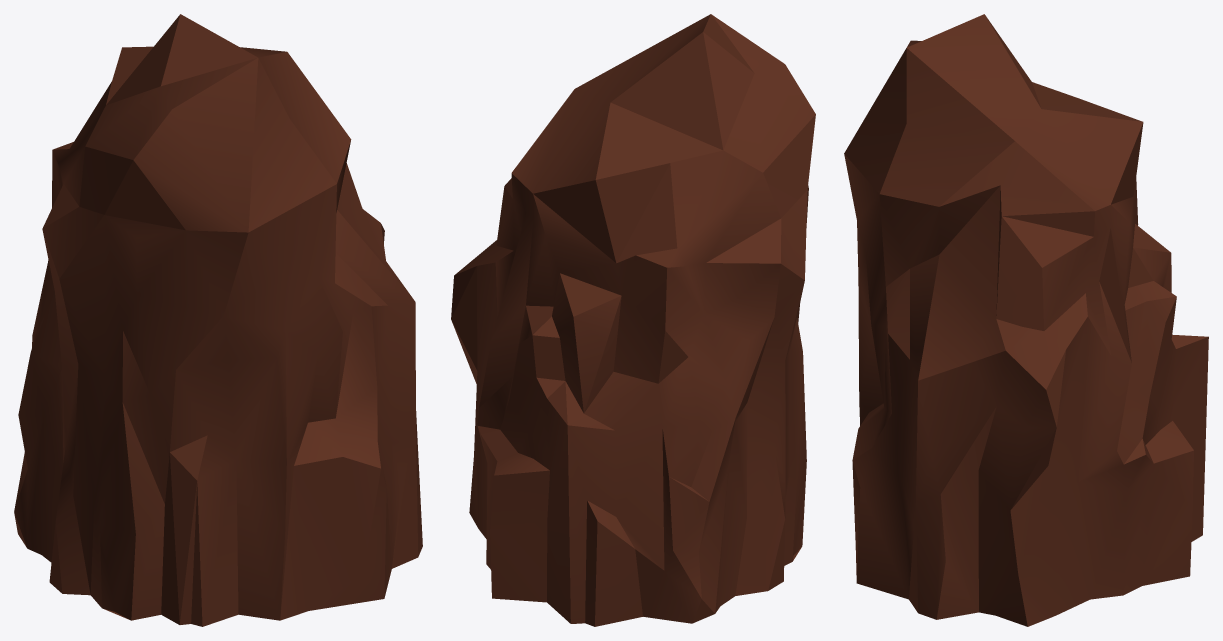
File: Hill_5_Cup.fbx
The picture shows the model from 3 angles, left to right: view 1: azimuth 30°, elevation 25°; view 2: azimuth 150°, elevation 25°; view 3: azimuth 270°, elevation 25°; orthographic projection. The views are drawn at different scales.
Visible parts, largest first — view 1: Rock_5_Cup; view 2: Rock_5_Cup; view 3: Rock_5_Cup.
Part boxes in pixels (x1,y1,x2,y2): Rock_5_Cup: [14, 14, 422, 626]; Rock_5_Cup: [451, 14, 815, 626]; Rock_5_Cup: [844, 14, 1208, 626].
Bounding box in the file's own units: 1552 × 2365 × 1531.
